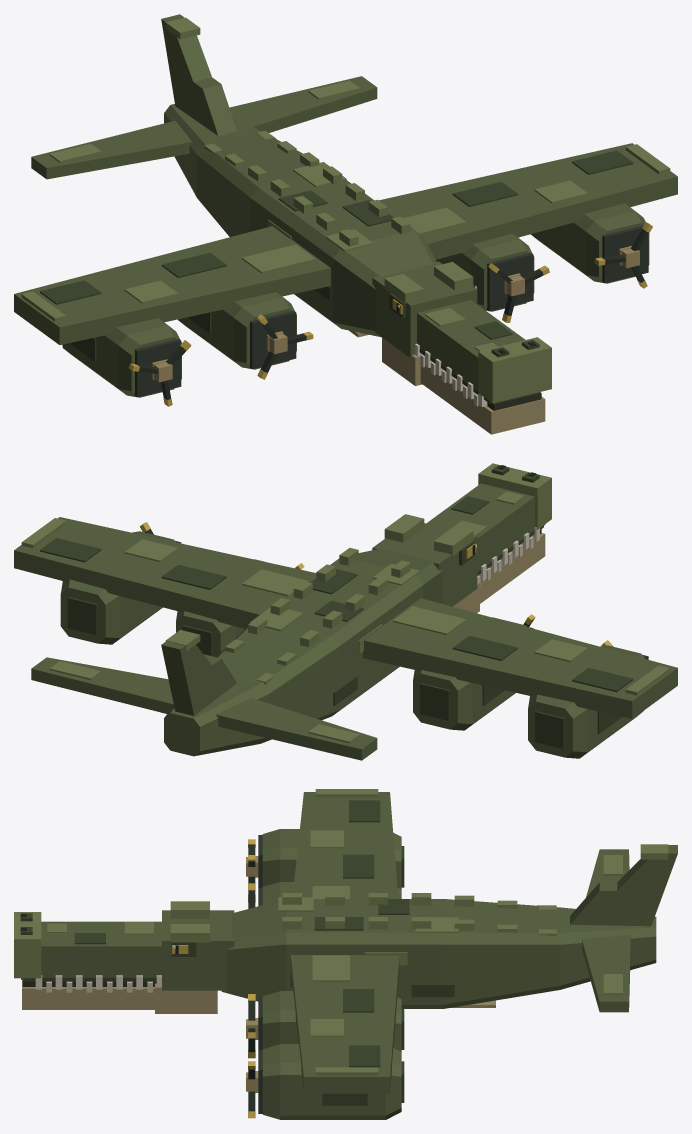
Rendered from Bombardiro_Voxel.glb.
3 views of the same model, one above another, from view 1: azimuth 30°, elevation 25°; view 2: azimuth 150°, elevation 25°; view 3: azimuth 270°, elevation 25° (orthographic). The views are drawn at different scales.
Visible parts, largest first — view 1: Bombardiro_Voxel_Model; view 2: Bombardiro_Voxel_Model; view 3: Bombardiro_Voxel_Model.
Part boxes in pixels (x1,y1,x2,y2): Bombardiro_Voxel_Model: [14, 14, 677, 434]; Bombardiro_Voxel_Model: [14, 463, 677, 760]; Bombardiro_Voxel_Model: [14, 789, 677, 1119].
Size of the model in its own units: 3.44 by 0.8927 by 3.39.
